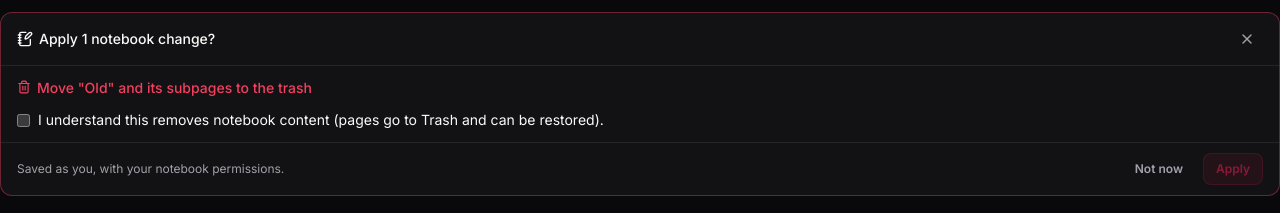
NotebookProposalCard › requires an explicit tick before a deletion can be applied
The image size is (1280, 213).
Expected: the text "Move \"Old\" and its subpages to the trash" is shown, x1=17 y1=79 x2=312 y2=96
Expected: the button "Apply" is disabled, x1=1203 y1=153 x2=1263 y2=185
Click the checkbox at {"x": 24, "y": 120}, box x1=17 y1=114 x2=30 y2=126
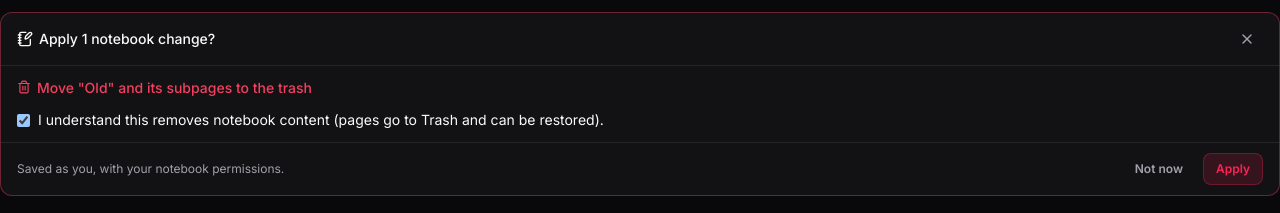
Expected: the button "Apply" is enabled, x1=1203 y1=153 x2=1263 y2=185
